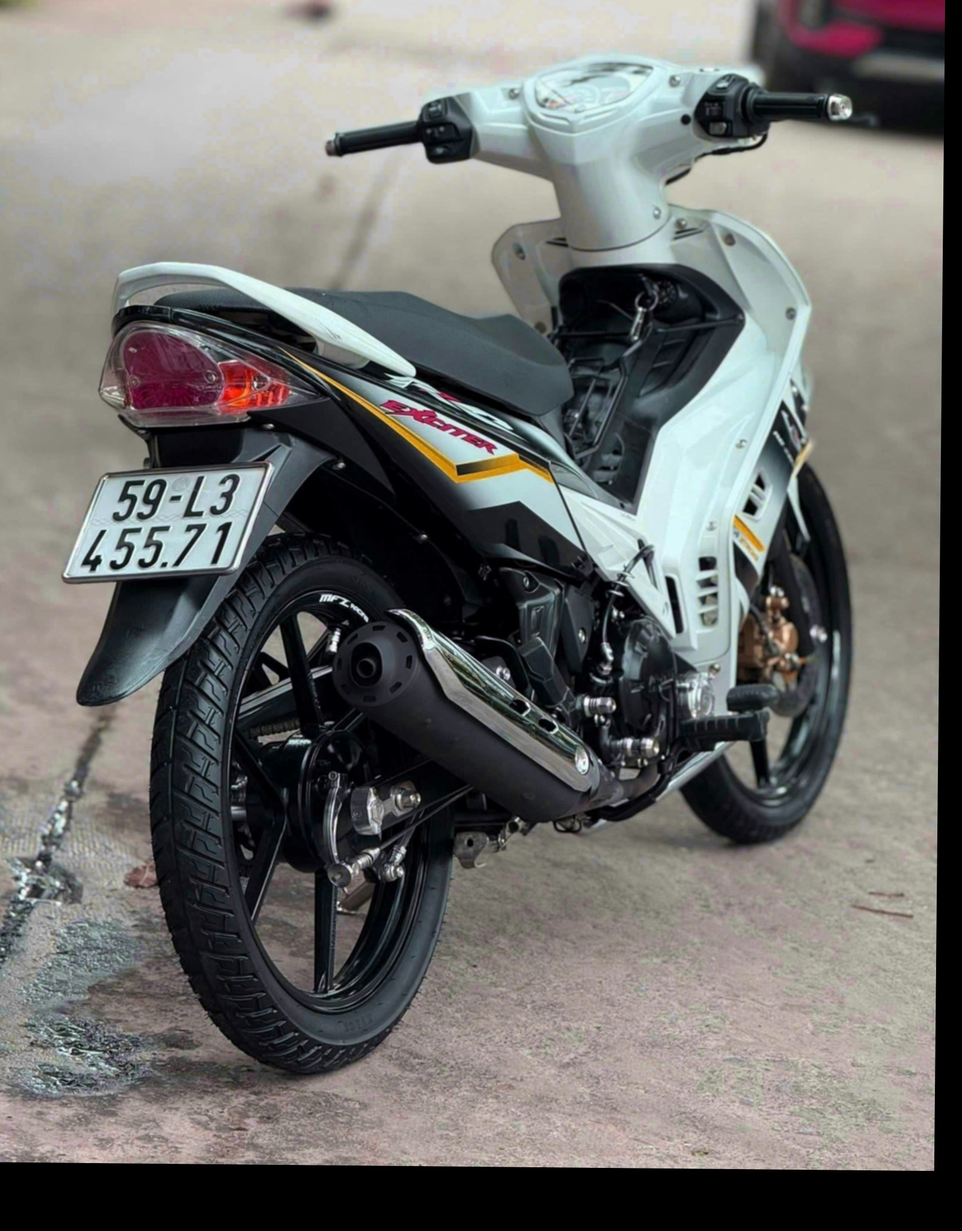Bien-so: (72, 466, 271, 581)
